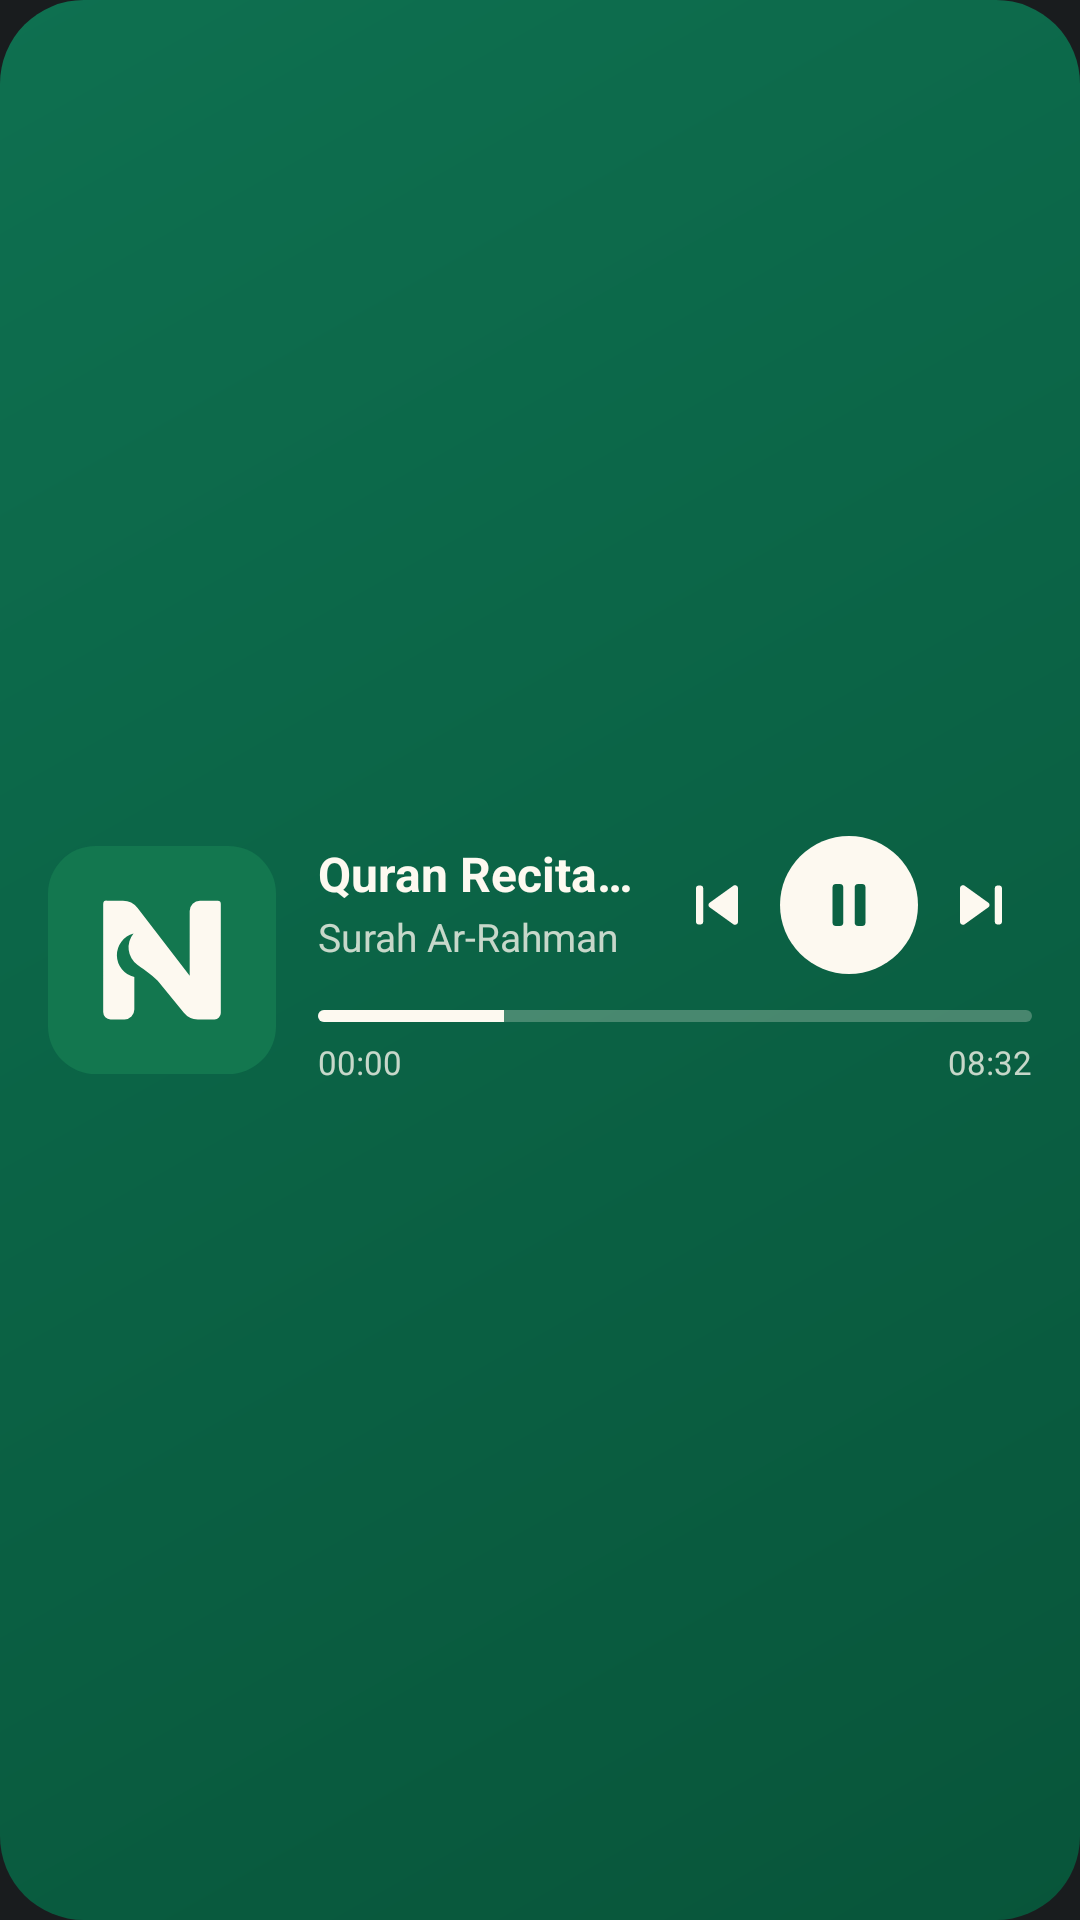

Named icons in this screenshot (1080x1920) and their centers, point (x, y):
Artwork: point (162, 960)
Next: point (981, 905)
Play or pause: point (849, 905)
Previous: point (717, 905)
